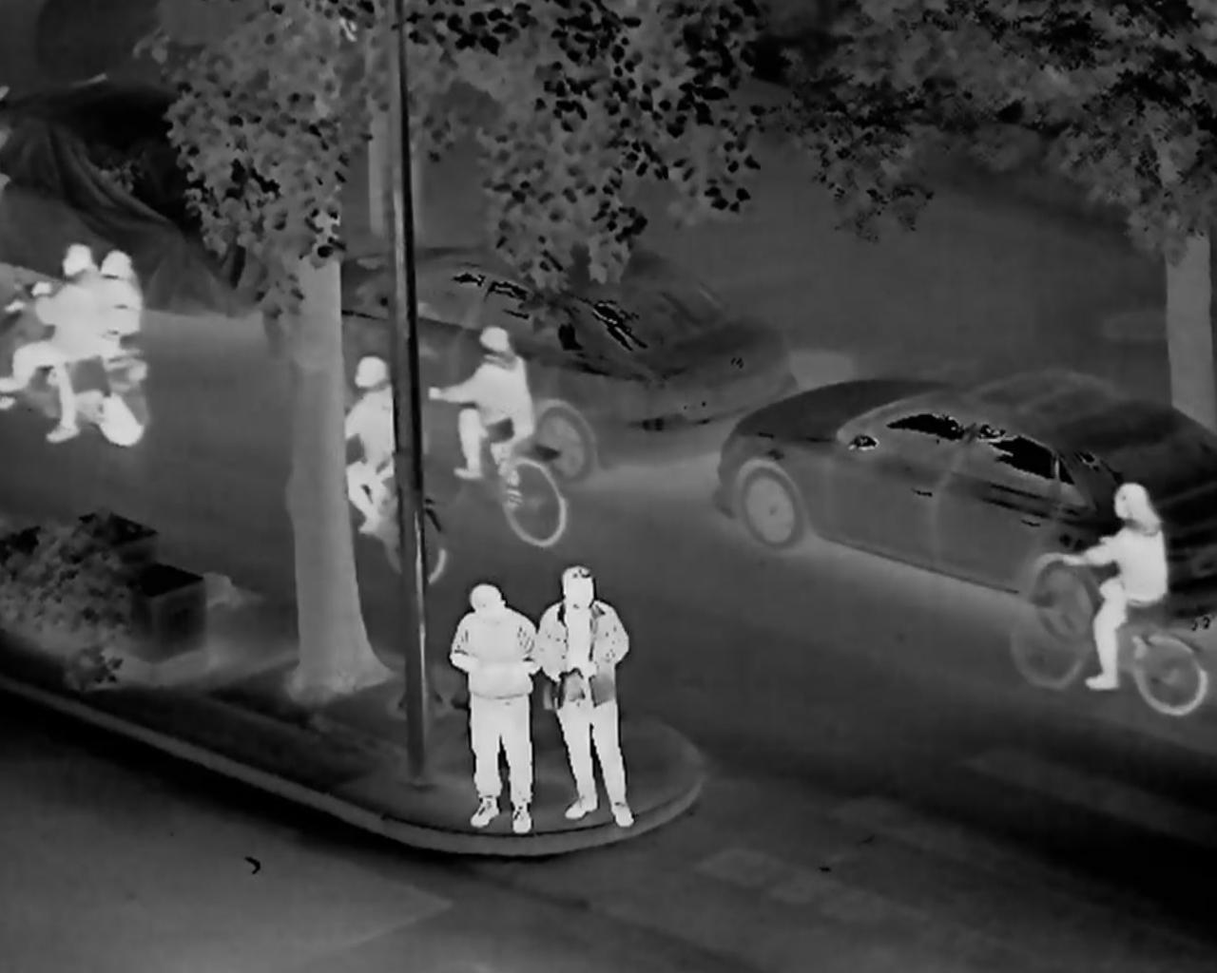person: (542, 563, 654, 824), (1065, 472, 1182, 695), (455, 581, 548, 838), (339, 354, 445, 558), (440, 319, 554, 491), (84, 253, 152, 454)
